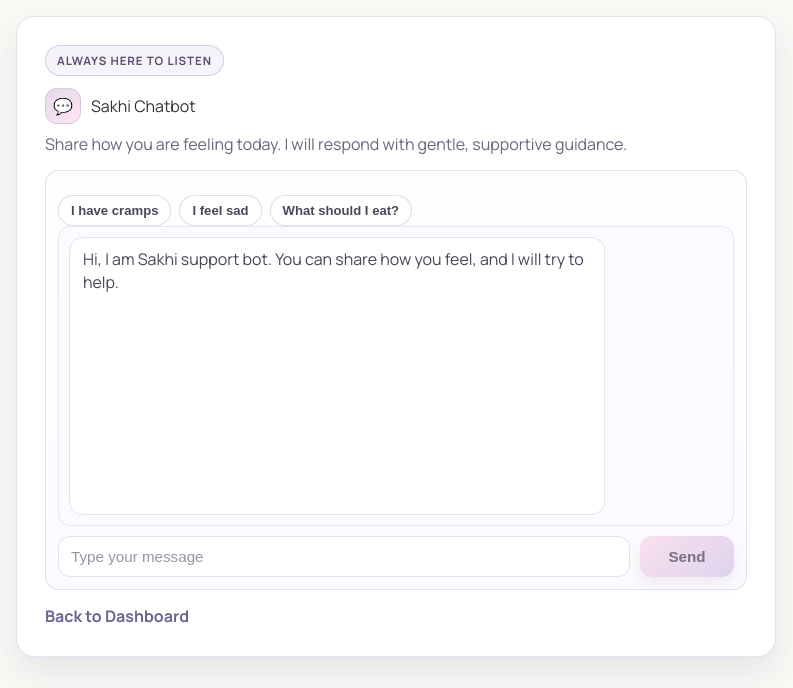
Test: Chatbot feature › shows fallback message when API fails
Type "I feel low" into the field with placeholder "Type your message".
click(344, 557); type("I feel low")  # box [58, 536, 630, 577]
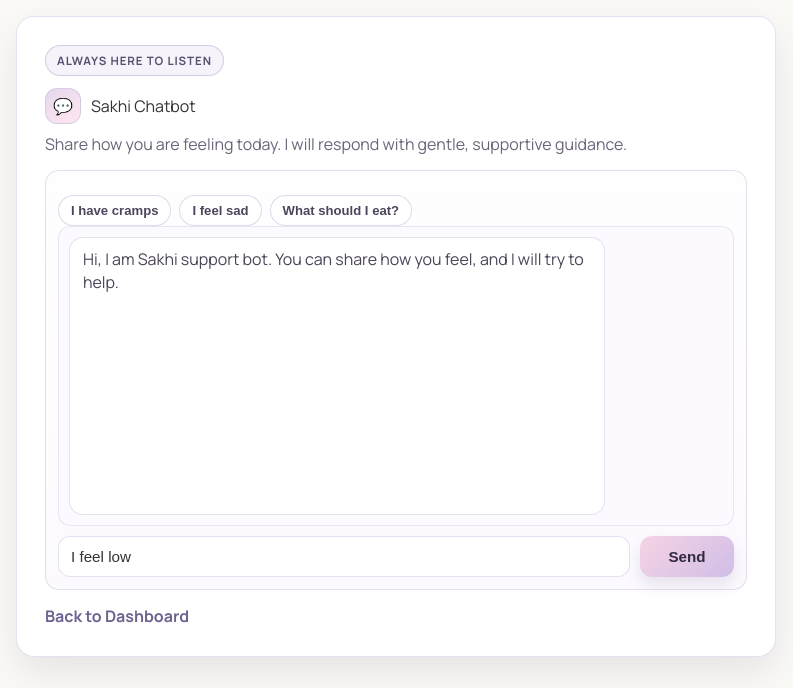
Click the button "Send".
click(687, 557)  # box [640, 536, 734, 577]
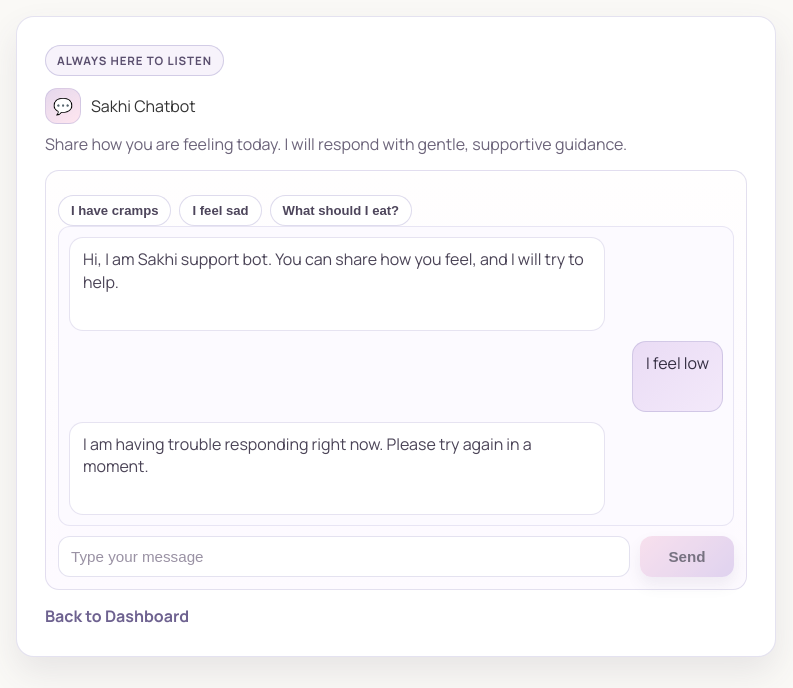
expect the text "I am having trouble responding right now. Please try again in a moment." is shown: met, box [69, 422, 605, 515]
